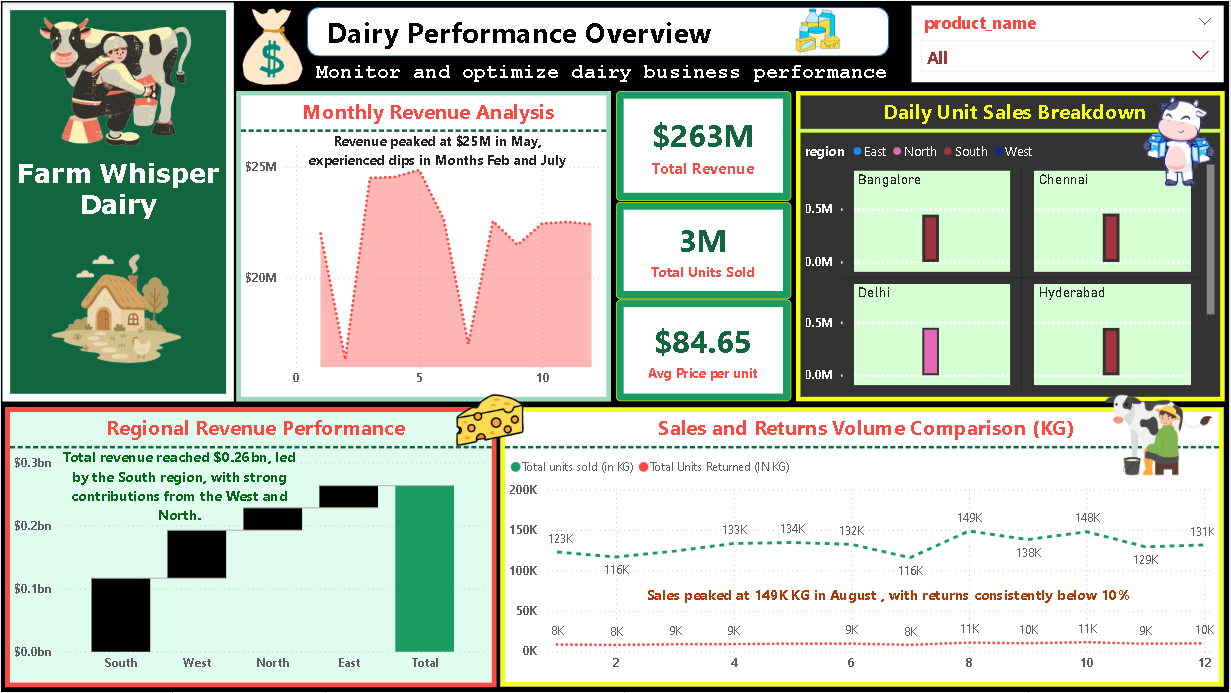

Layout of this report page (visuals, bound fields, positions):
{"tool":"powerbi","page":{"name":"Dairy Performance Overview","canvas":[1280,720],"ordinal":1},"visuals":[{"type":"shape","box":[1.6,1.6,241,415.7],"z":0},{"type":"shape","box":[318.8,6.3,606.4,51.6],"z":1000},{"type":"textbox","box":[1.6,157.9,240.7,89.1],"z":2000},{"type":"image","box":[23.4,6.3,193.8,156.3],"z":3000},{"type":"textbox","box":[289.2,57.8,673.6,40.6],"z":4000},{"type":"cardVisual","fields":{"Data":["fact_sales.Total Revenue"]},"box":[640.5,93.8,182.8,114.8],"z":5000},{"type":"cardVisual","fields":{"Data":["Sum(fact_sales.daily_unit_sales)"]},"box":[640.8,209.4,182.9,101.6],"z":6000},{"type":"areaChart","title":"Monthly Revenue Analysis","fields":{"Y":["fact_sales.Total Revenue"],"Category":["dim_date.Month Number"]},"box":[245.9,93.8,389.8,323.5],"z":7000},{"type":"lineChart","title":"Sales and Returns Volume Comparison (KG)","fields":{"Category":["dim_date.Month Number"],"Y":["fact_sales.Total units sold (in KG)","fact_sales.Total Units Returned (IN KG)"]},"box":[520.5,423.6,753.4,290.7],"z":8000},{"type":"cardVisual","fields":{"Data":["fact_sales.Average Price per unit"]},"box":[640.8,311,182.9,106.3],"z":9000},{"type":"waterfallChart","title":"Regional Revenue Performance","fields":{"Category":["dim_location.region"],"Y":["fact_sales.Total Revenue"]},"box":[4.9,423.8,511.1,291.2],"z":10000},{"type":"ribbonChart","title":"Daily Unit Sales Breakdown","fields":{"Series":["dim_location.region"],"Rows":["dim_location.city"],"Y":["Sum(fact_sales.daily_unit_sales)"]},"box":[828.2,93.8,446.4,323.5],"z":11000},{"type":"slicer","fields":{"Values":["dim_product.product_name"]},"box":[948.7,4.7,325.1,79.7],"z":12000},{"type":"image","box":[200.1,0,168.8,98.5],"z":13000},{"type":"textbox","box":[304.8,129.7,300.1,54.7],"z":14000},{"type":"textbox","box":[53.1,459.5,265.7,109.4],"z":15000},{"type":"shape","box":[828.4,118.8,445.5,32.8],"z":16000},{"type":"textbox","box":[618.9,603.3,611.1,43.8],"z":17000},{"type":"image","box":[1125.3,403.3,154.7,95.3],"z":18000},{"type":"image","box":[459.5,397,93.8,81.3],"z":19000},{"type":"image","box":[1175.4,76.6,104.7,148.5],"z":20000},{"type":"image","box":[779.9,0,145.4,57.8],"z":21000},{"type":"image","box":[31.3,245.4,176.6,140.7],"z":22000}]}

Visuals, with their boxes in screenshot pixels (x1, y1, x2, y2), scaled from the page's 1280x720 canvas onto the 1231x693 screenshot:
shape: [2,2,233,402]
shape: [307,6,890,56]
textbox: [2,152,233,238]
image: [23,6,209,157]
textbox: [278,56,926,95]
cardVisual - fact_sales.Total Revenue: [616,90,792,201]
cardVisual - Sum(fact_sales.daily_unit_sales): [616,202,792,299]
"Monthly Revenue Analysis" areaChart: [236,90,611,402]
"Sales and Returns Volume Comparison (KG)" lineChart: [501,408,1225,688]
cardVisual - fact_sales.Average Price per unit: [616,299,792,402]
"Regional Revenue Performance" waterfallChart: [5,408,496,688]
"Daily Unit Sales Breakdown" ribbonChart: [796,90,1226,402]
slicer - dim_product.product_name: [912,5,1225,81]
image: [192,0,355,95]
textbox: [293,125,582,177]
textbox: [51,442,307,548]
shape: [797,114,1225,146]
textbox: [595,581,1183,623]
image: [1082,388,1230,480]
image: [442,382,532,460]
image: [1130,74,1230,217]
image: [750,0,890,56]
image: [30,236,200,372]
